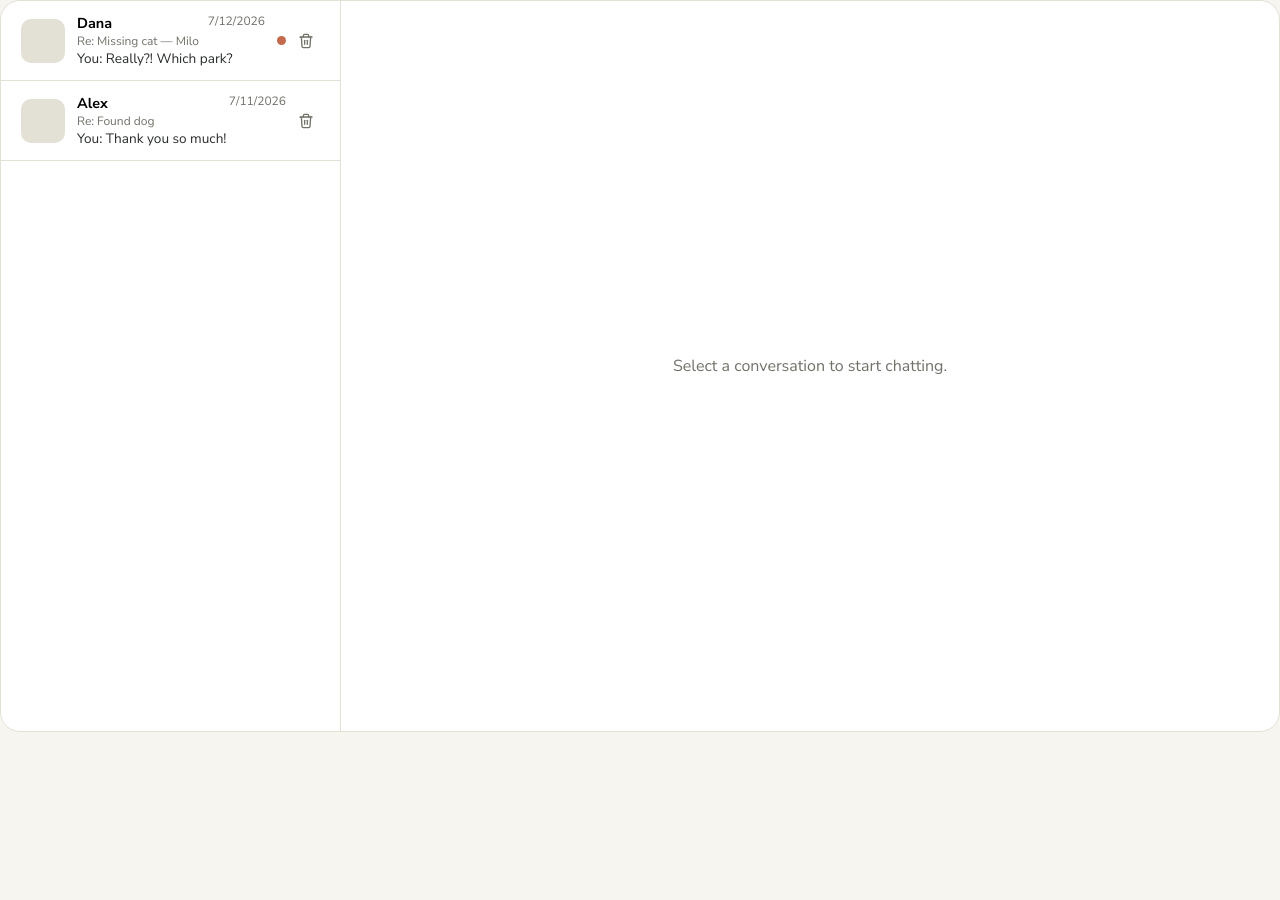
Test: deleting the currently active conversation clears the thread pane
This screenshot has width=1280, height=900.
Click the button "Dana" at (154, 40), box [21,13,286,68]
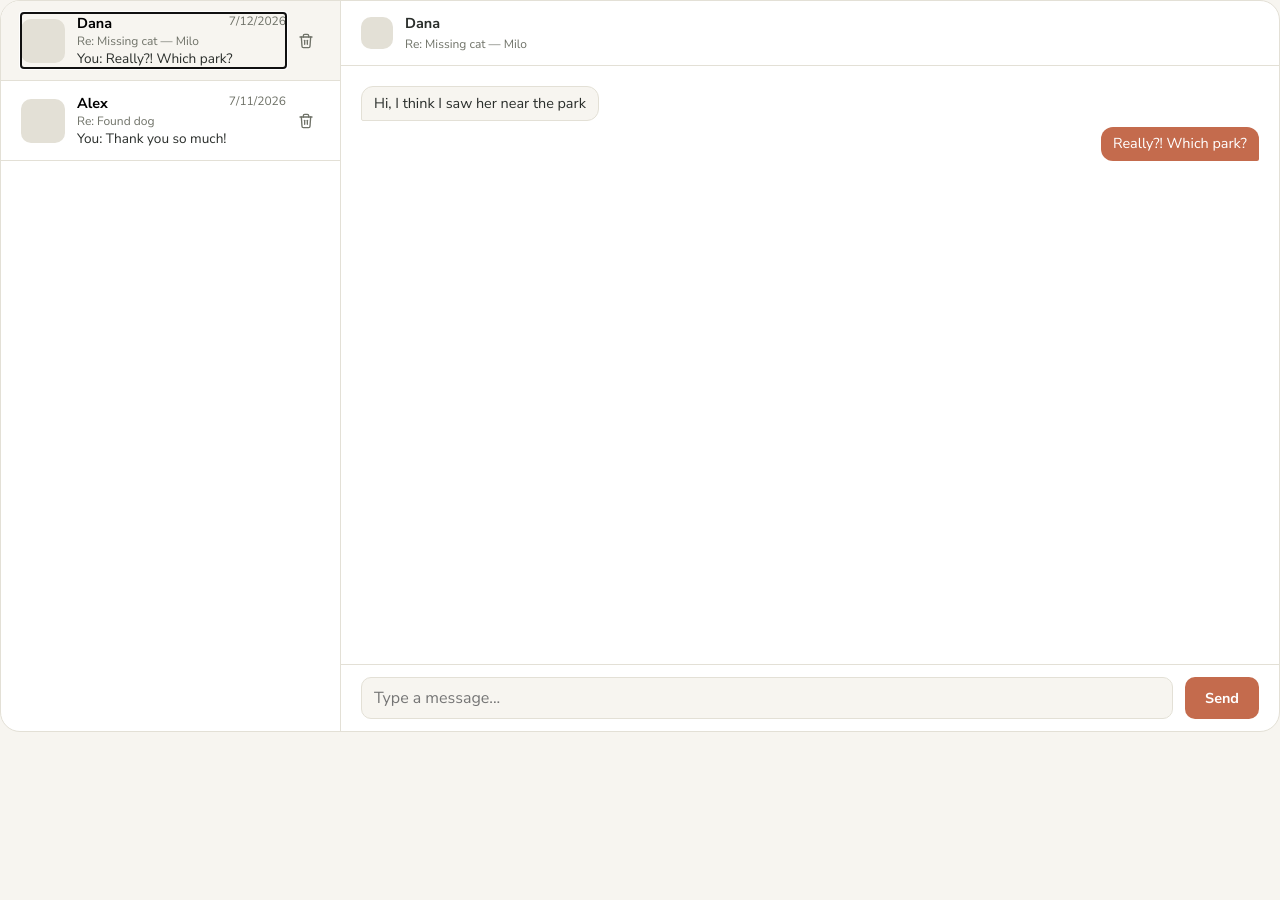
Expected: the text "Hi, I think I saw her near the park" is shown, [361,86,599,121]
Click the button named "Delete conversation with Dana" at (306, 40), box [292,26,320,54]
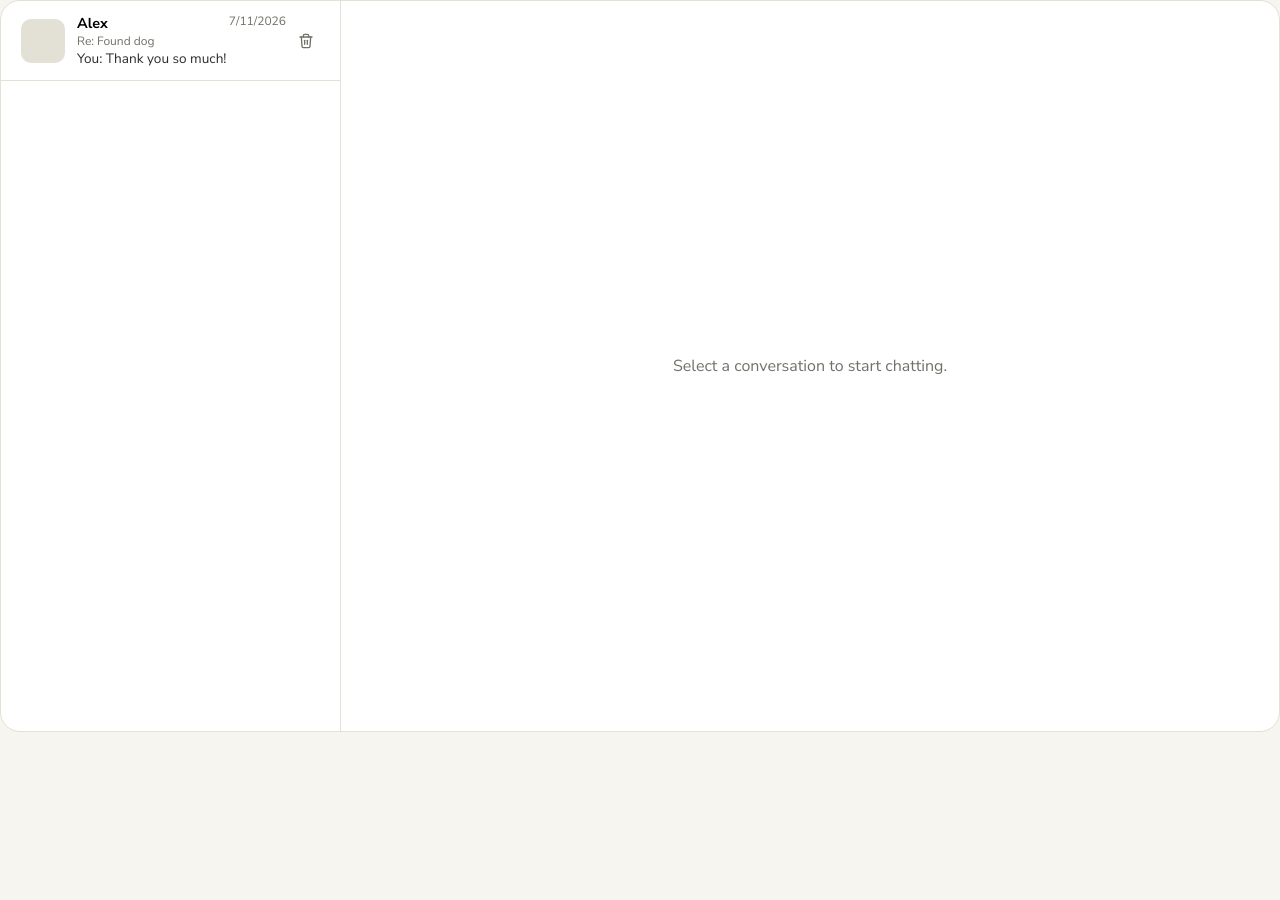
Expected: the text "Select a conversation to start chatting." is shown, [673,354,947,378]
